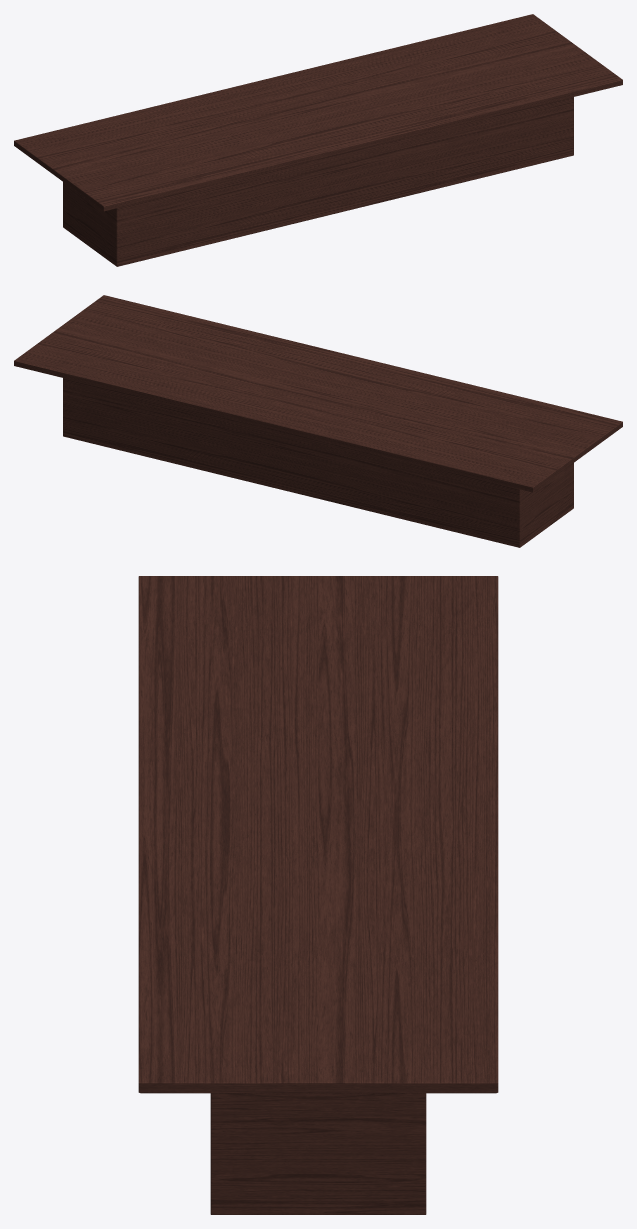
Rendered from Meeting_Table.FBX.
The picture shows the model from 3 angles, top to bottom: view 1: azimuth 30°, elevation 25°; view 2: azimuth 150°, elevation 25°; view 3: azimuth 270°, elevation 25°; orthographic projection. The views are drawn at different scales.
Visible parts, largest first — view 1: Meeting_Table; view 2: Meeting_Table; view 3: Meeting_Table.
Part boxes in pixels (bbox=[...]): Meeting_Table: bbox=[14, 14, 622, 266]; Meeting_Table: bbox=[14, 295, 622, 547]; Meeting_Table: bbox=[138, 576, 498, 1214].
Size of the model in its own units: 197 by 29.53 by 59.06.
Materials: 1 (1 with a texture image).
